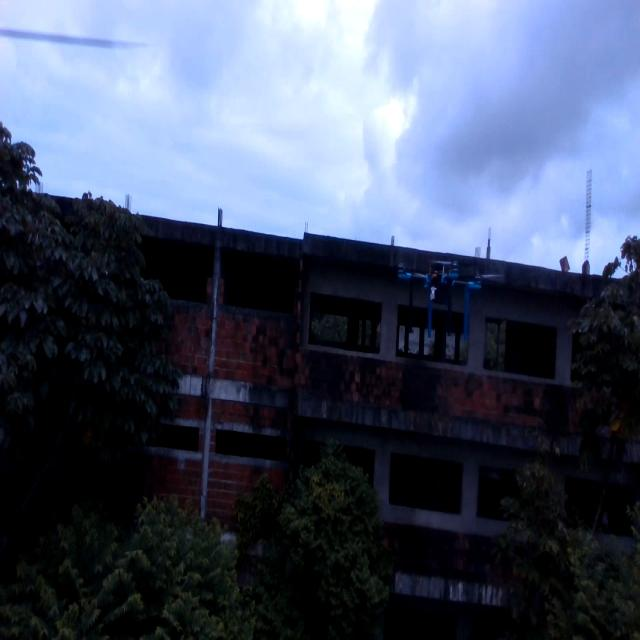-uav-: (379, 228, 510, 363)
